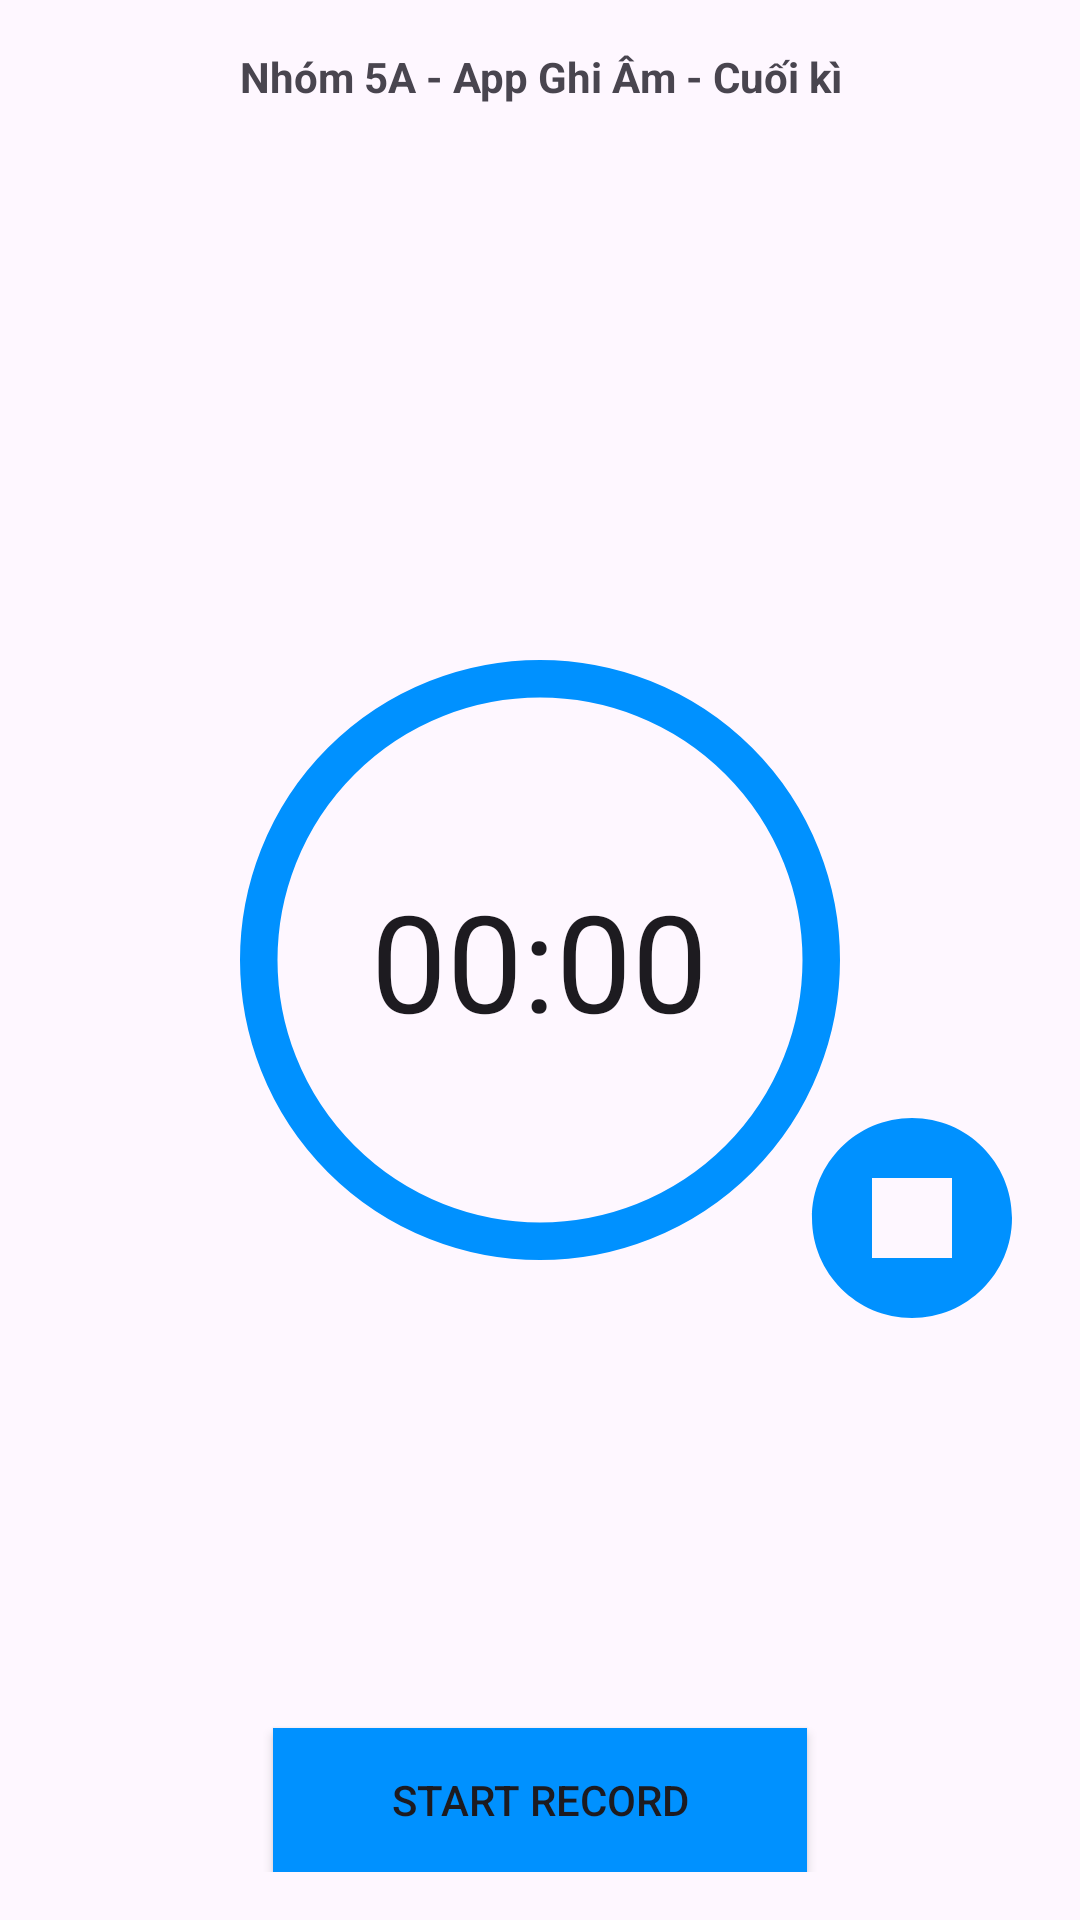

Where to tap for icons on this 1080×1920 app screen, as (x,y):
stop: (911,1218)
